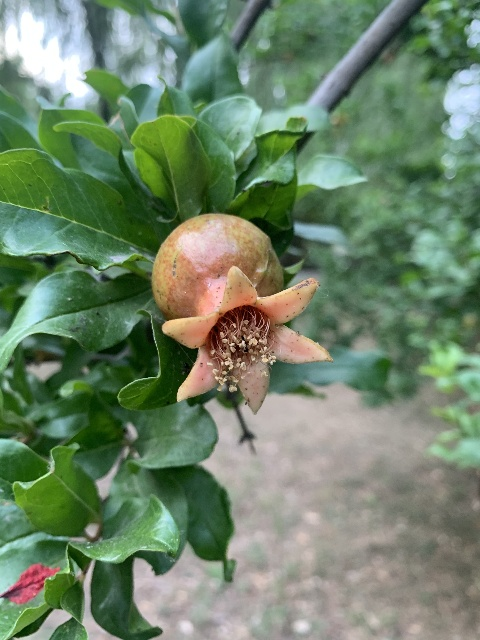early-fruit: (153, 213, 333, 415)
